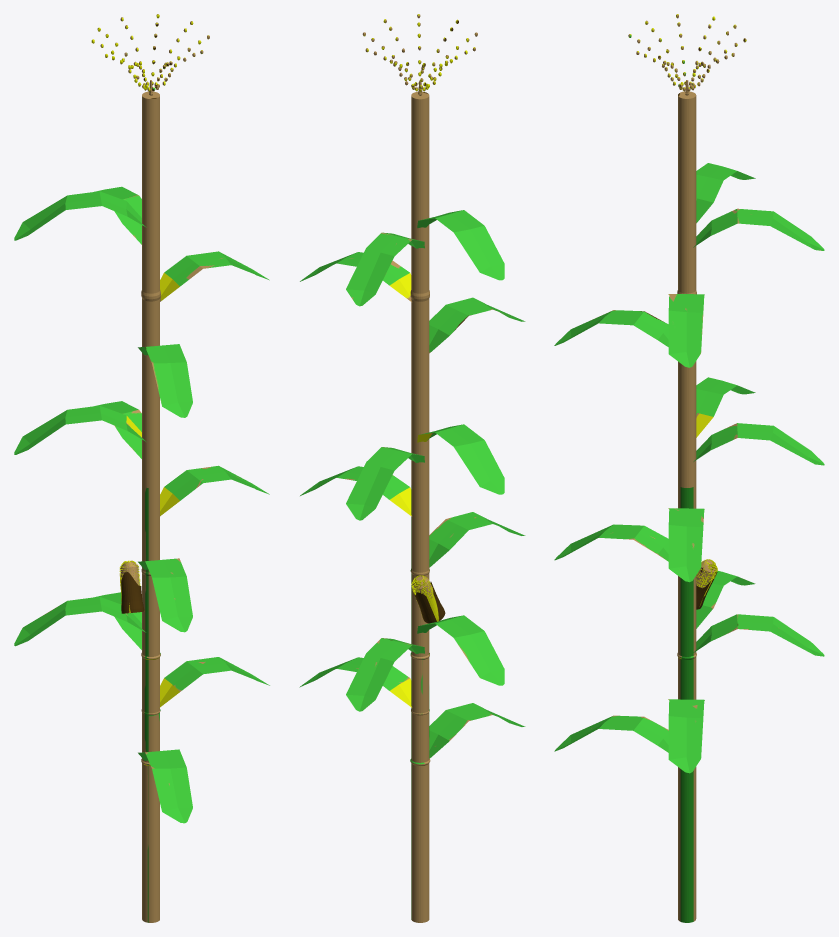
The model's file is corno.obj.
3 renders of one model, left to right at view 1: azimuth 30°, elevation 25°; view 2: azimuth 150°, elevation 25°; view 3: azimuth 270°, elevation 25°, orthographic.
Visible parts, largest first — view 1: Cylinder.002; view 2: Cylinder.002; view 3: Cylinder.002.
Boxes of the visible parts, <box> form: Cylinder.002: <box>14,14,269,922</box>; Cylinder.002: <box>299,14,525,922</box>; Cylinder.002: <box>554,14,824,922</box>.
Bounding box in the file's own units: 0.5823 × 2.14 × 0.5946.
1 material, 1 textured.
